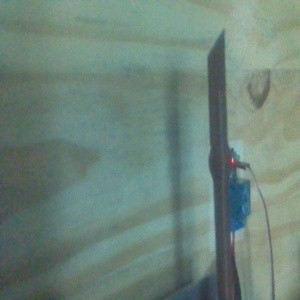cutter: (206, 26, 235, 300)
